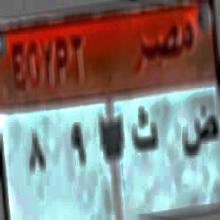8: (26, 129, 46, 177)
9: (70, 119, 88, 168)
daad: (181, 104, 219, 156)
thaa: (131, 104, 160, 154)
